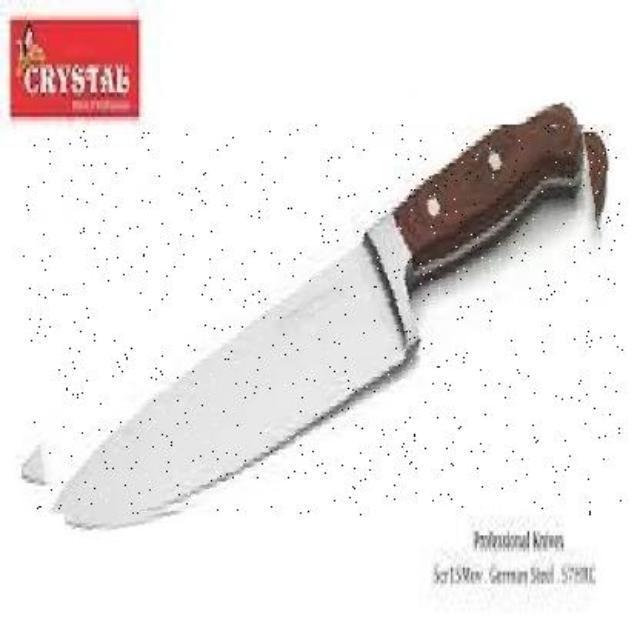Knife: (22, 125, 622, 515)
